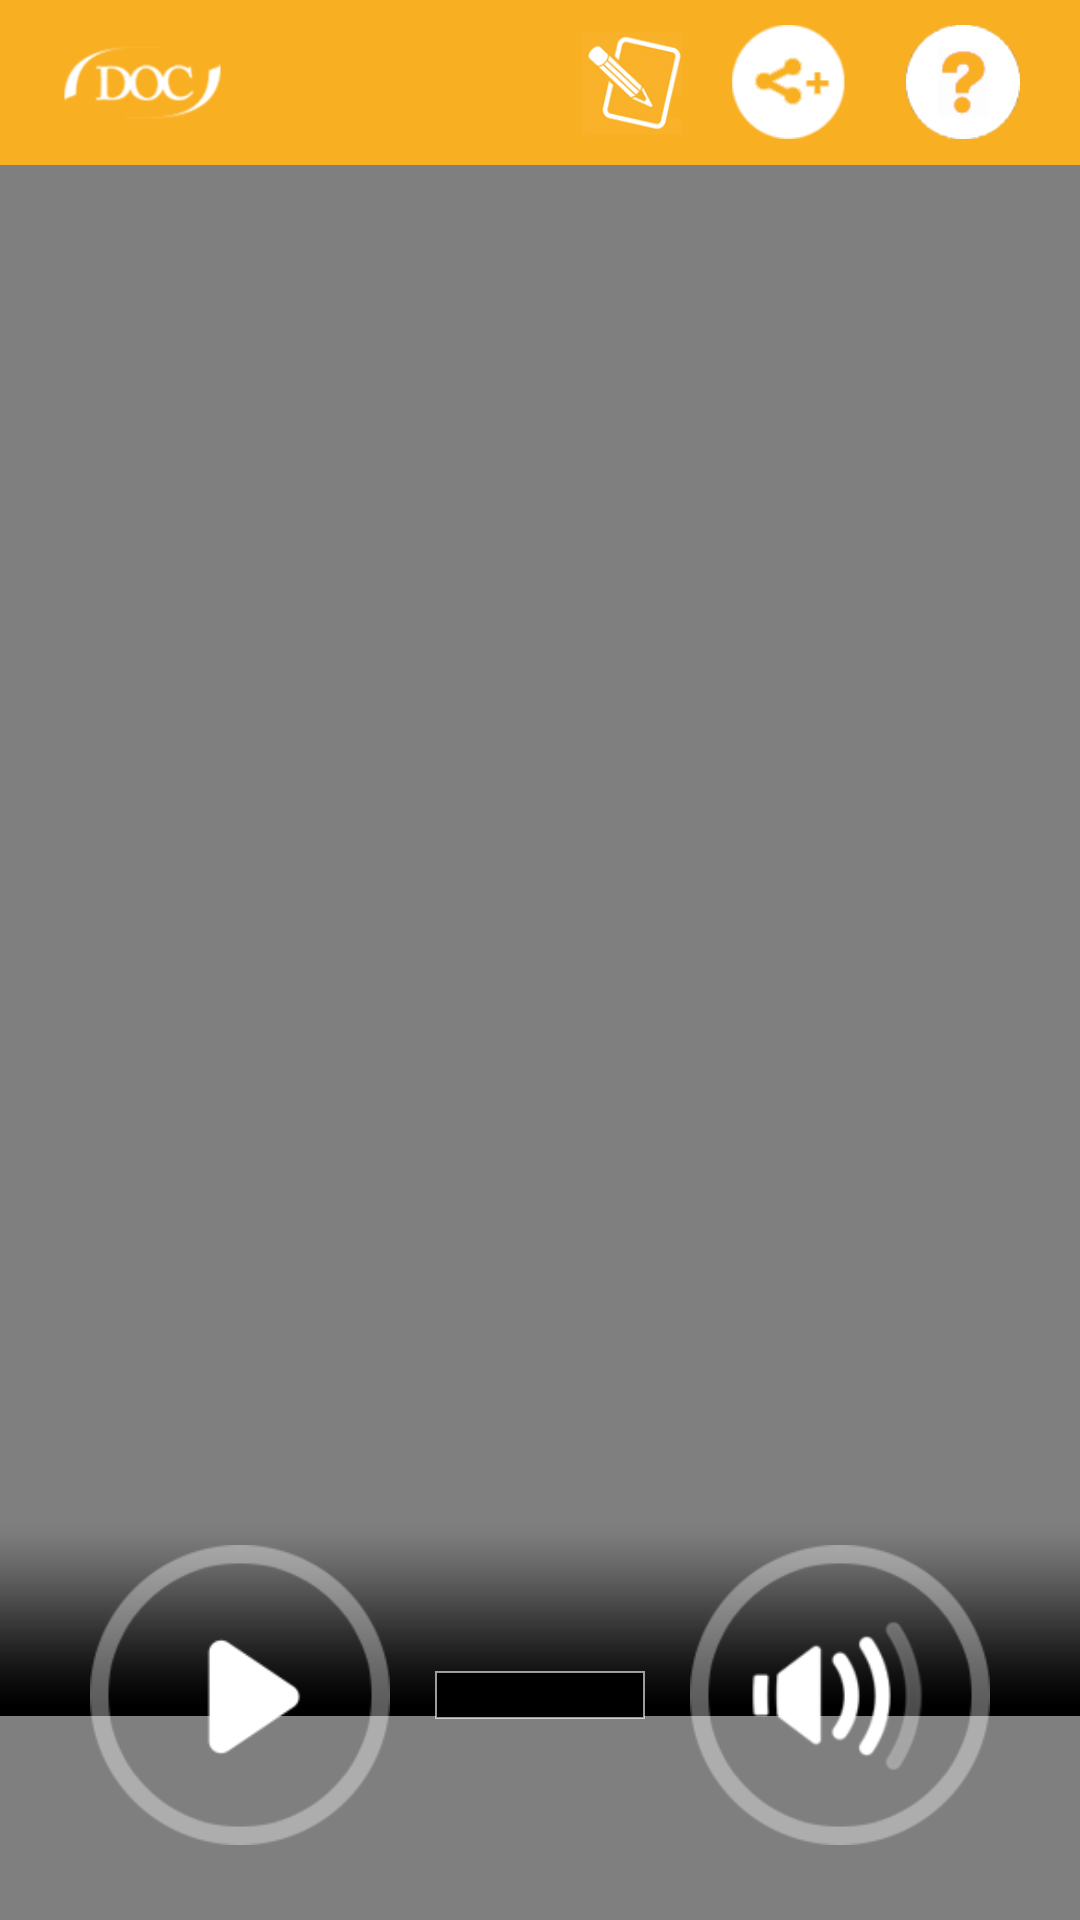

Screen size 1080 × 1920. Icon name, then its box in pixels as (x1, y1, x2, y2):
help contents: (906, 25, 1020, 139)
play: (90, 1545, 390, 1845)
share: (732, 25, 845, 139)
volume: (690, 1545, 990, 1845)
